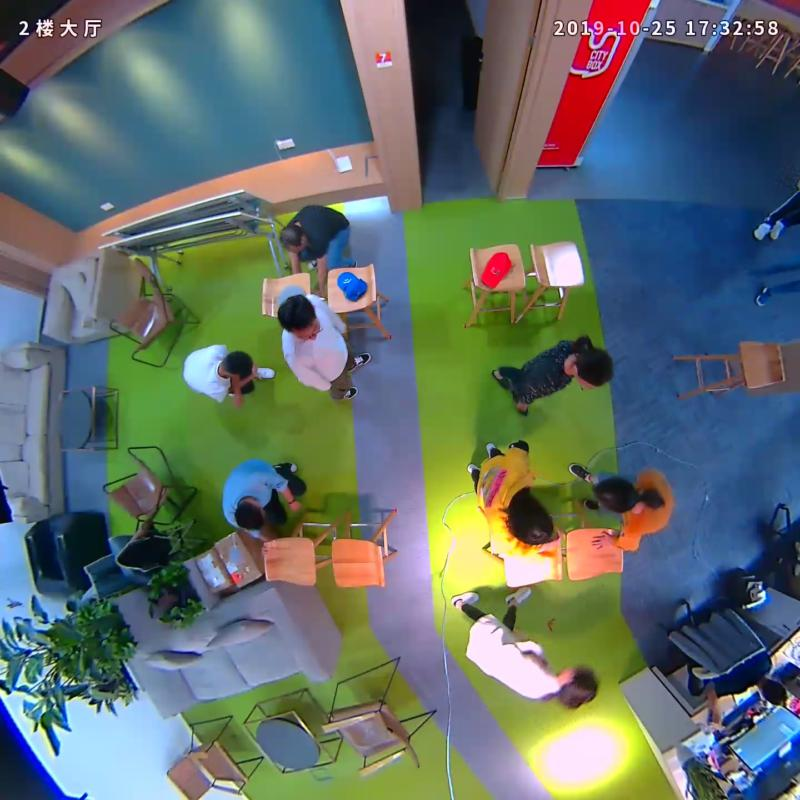head: (558, 337, 621, 396), (503, 493, 563, 551), (548, 661, 606, 715), (585, 471, 646, 516), (276, 289, 325, 345), (228, 495, 278, 535), (215, 346, 262, 385), (274, 222, 314, 260)
